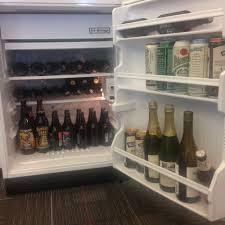beer: (17, 97, 110, 152), (141, 37, 224, 96), (122, 124, 146, 171)
